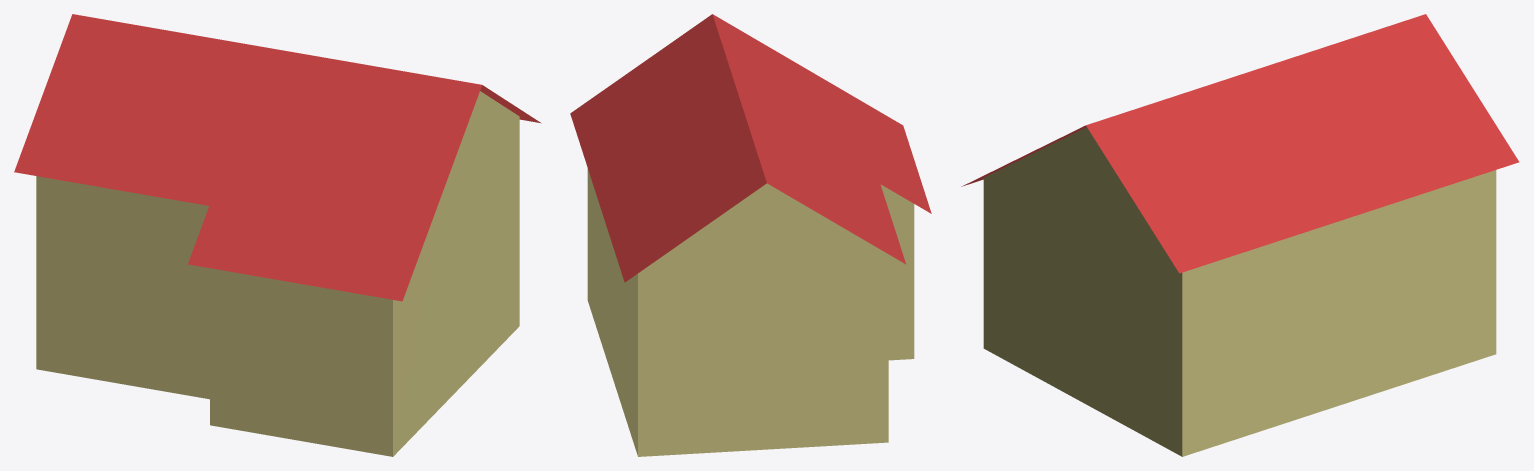
3 views of the same model, side by side, from view 1: azimuth 30°, elevation 25°; view 2: azimuth 150°, elevation 25°; view 3: azimuth 270°, elevation 25° (orthographic). The views are drawn at different scales.
Size of the model in its own units: 22.66 by 25.21 by 14.45.
